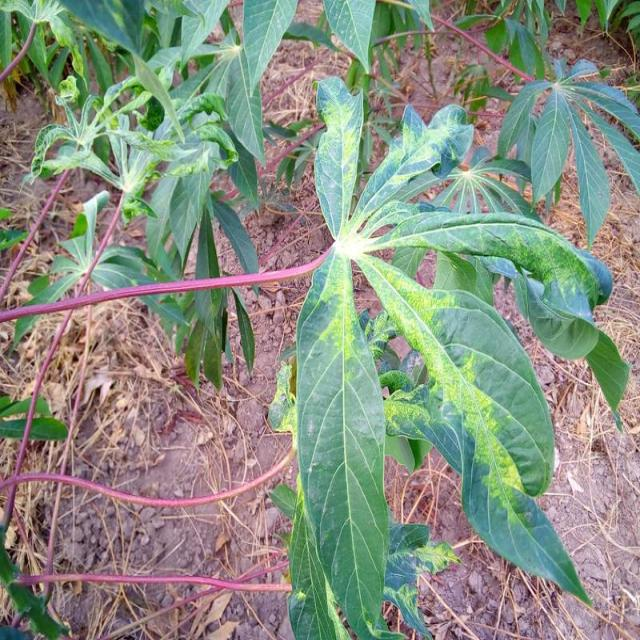cassava leaf: (292, 243, 390, 637)
